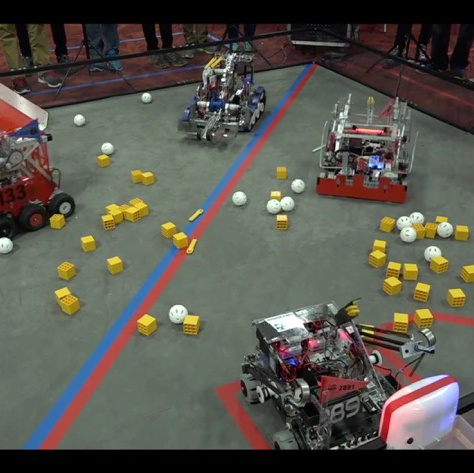robot: (237, 293, 439, 451), (308, 88, 423, 205), (0, 115, 78, 245), (179, 47, 271, 148)
